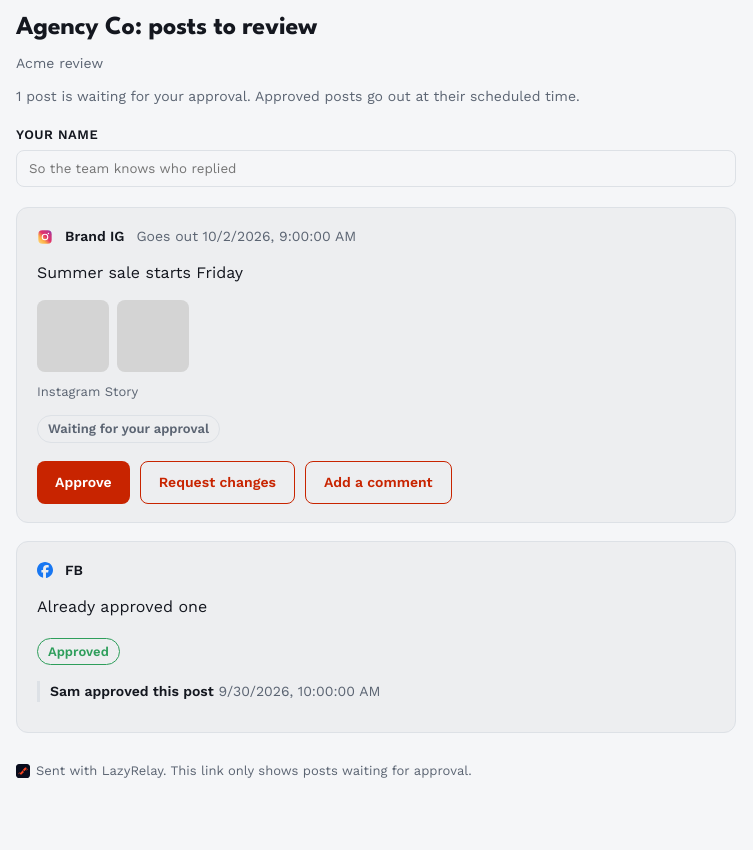
it: ReviewPage (the client, no login) › approving needs a name first, then sends it with the name and refreshes
Click the button "Approve".
click(83, 482)  # box [37,461,130,504]
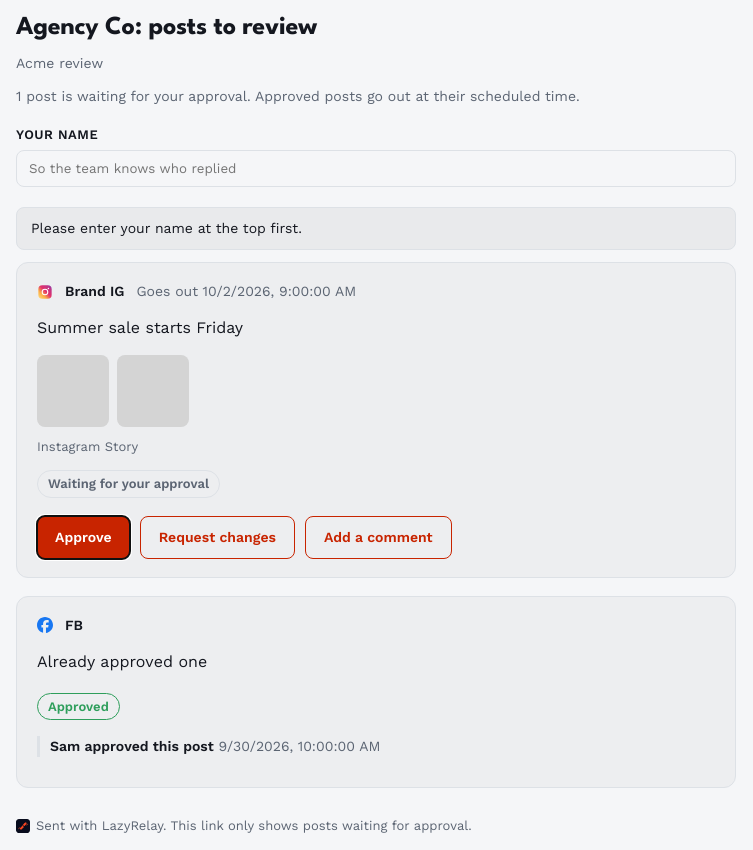
Result: the text "Please enter your name at the top first." is shown at [16,207,736,250]
Type "Sam Client" into the field with placeholder "So the team knows who replied".
click(376, 168); type("Sam Client")  # box [16,150,736,187]
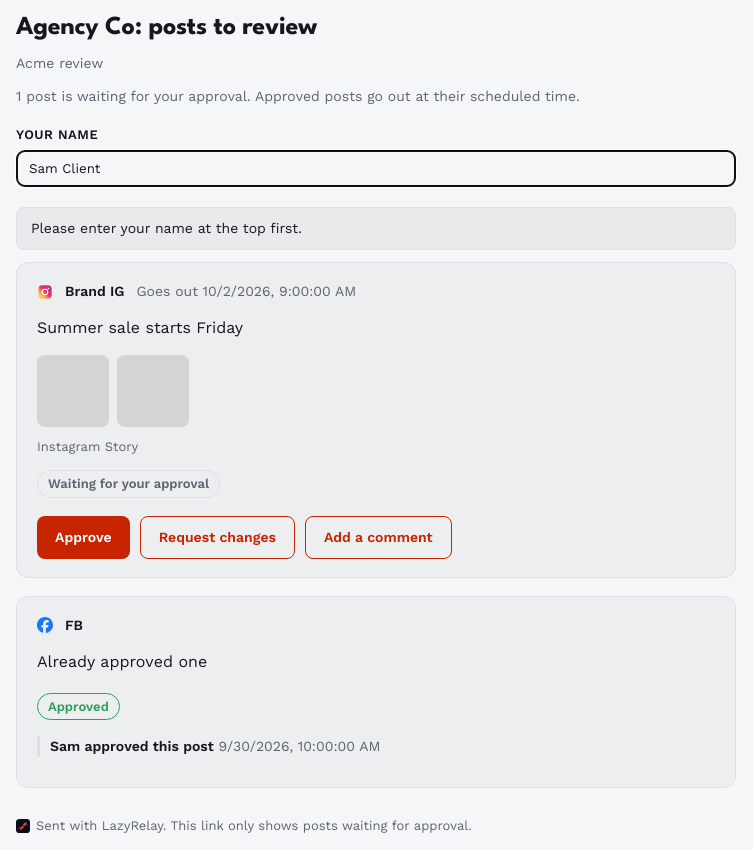
Click the button "Approve".
click(83, 537)  # box [37,516,130,559]
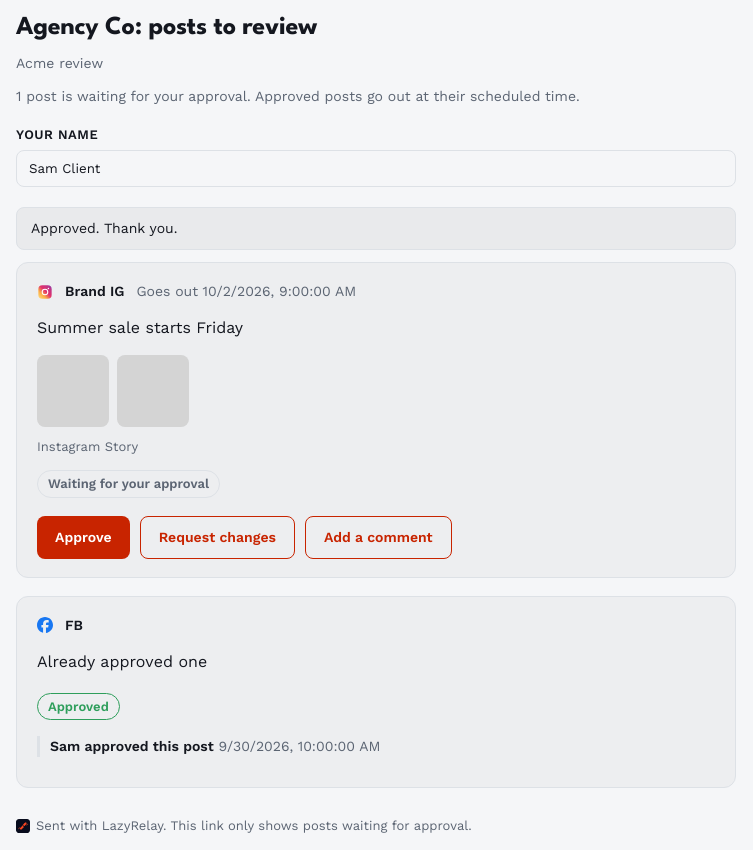
Result: the text "Approved. Thank you." is shown at [16,207,736,250]
